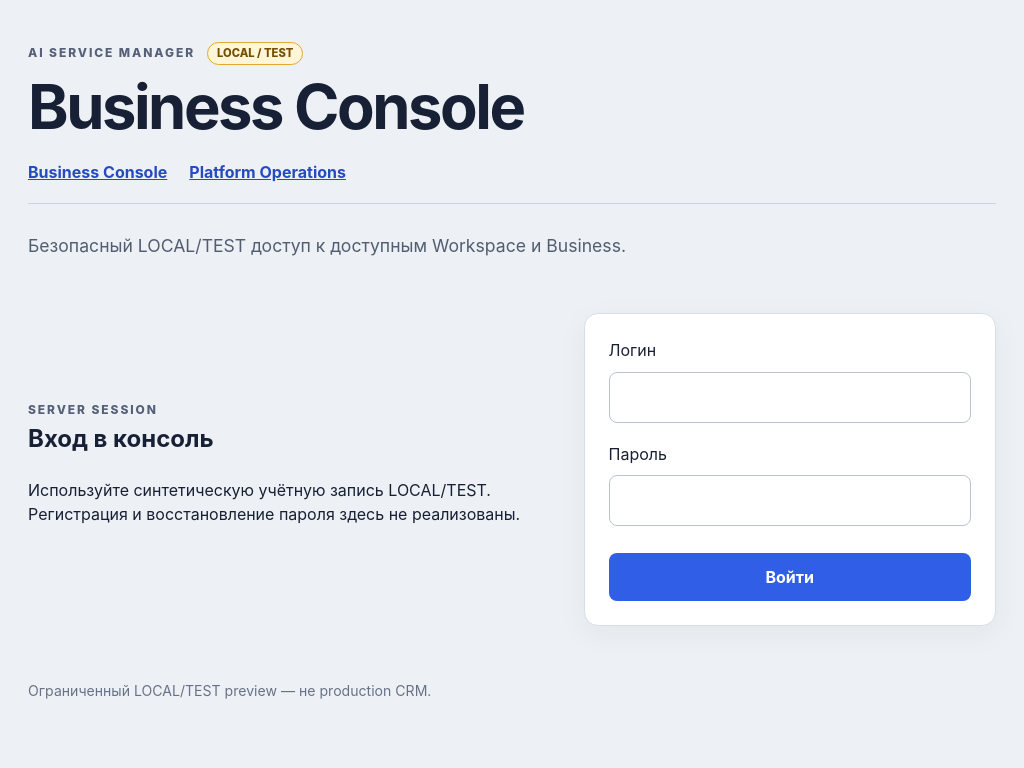
Test: Business Console auth › logs in once, clears password, and renders server Business data
Type "owner.test" into the field labelled "Логин" at coordinates (790, 397), box [608,372,971,422]
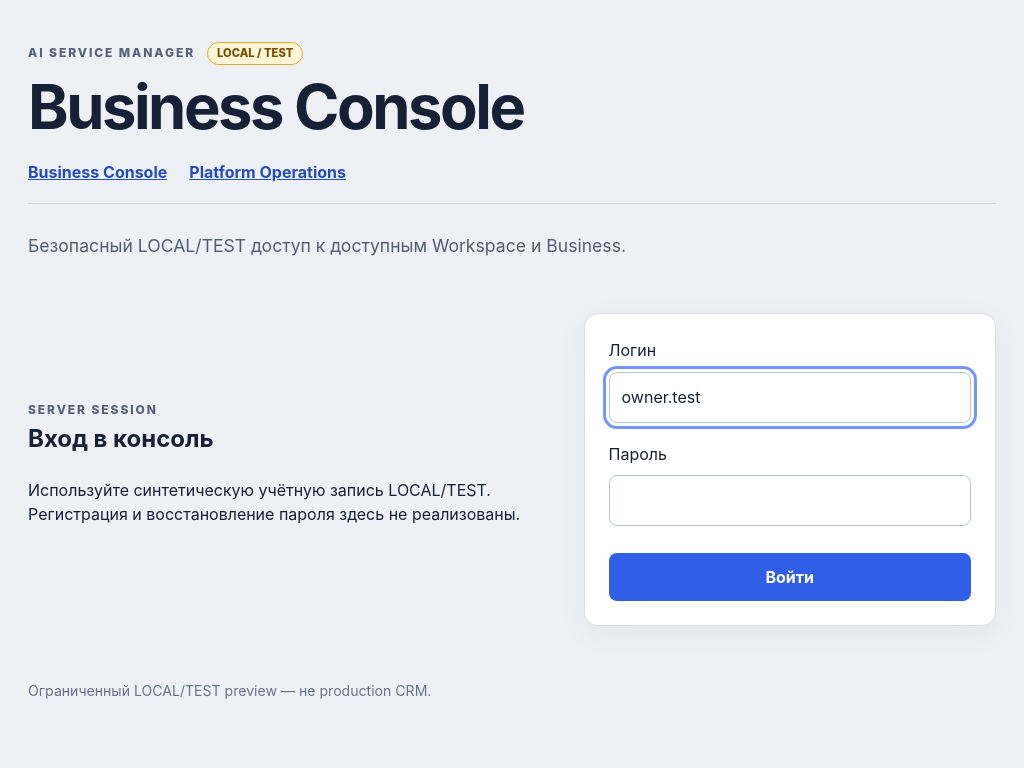
Type "correct-password" into the password field labelled "Пароль" at coordinates (790, 501), box [608,475,971,526]
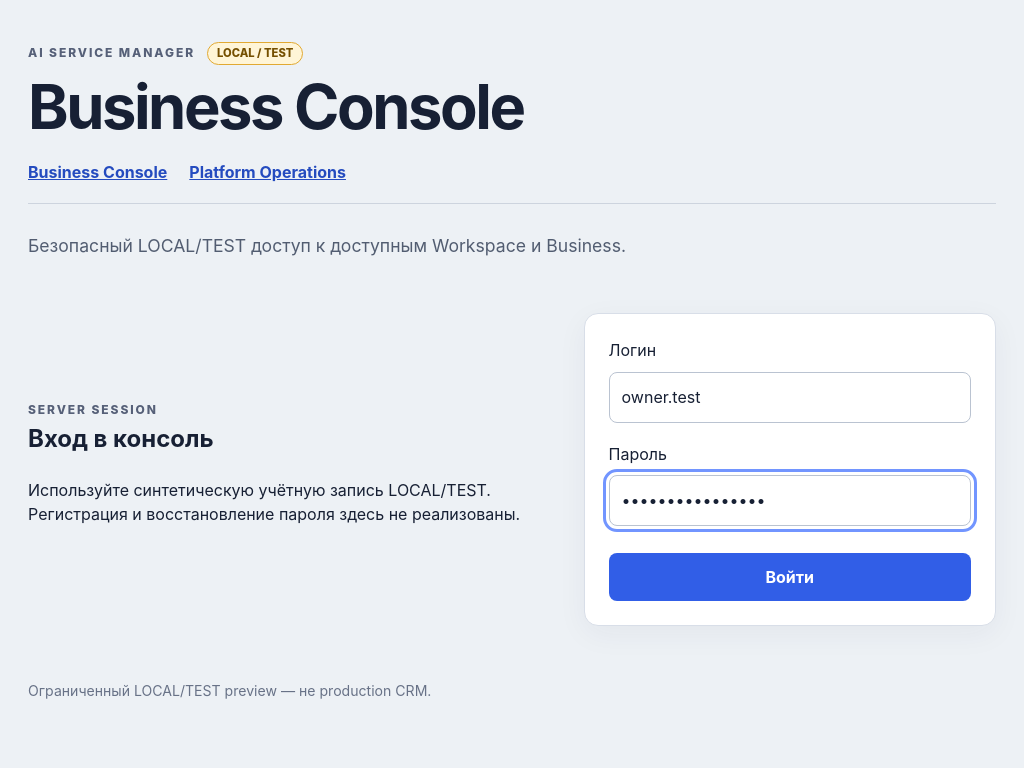
Double-click the button "Войти" at coordinates (790, 577), box [608,553,971,601]
(page scrolled)
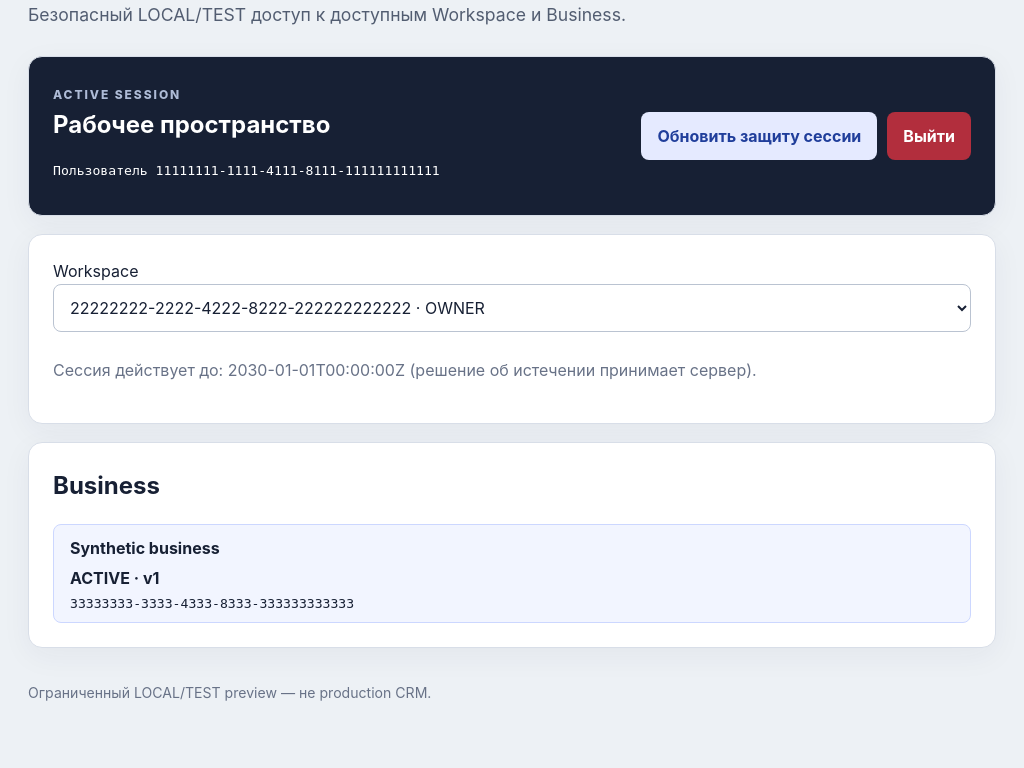
Check: the text "Synthetic business" is shown, box [70,538,220,558]
